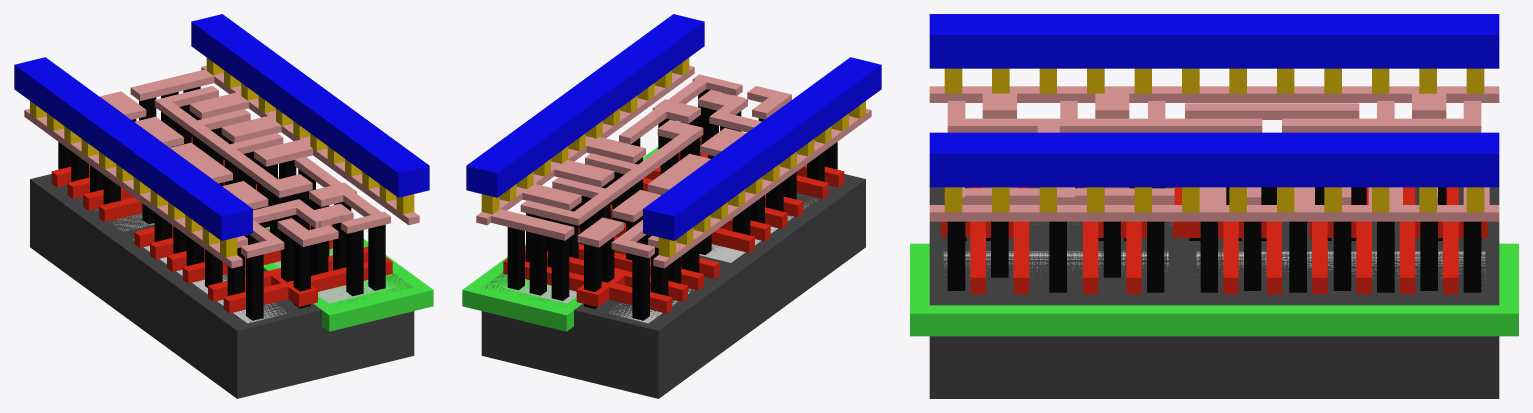
Rendered from sky130_fd_sc_hd__a311oi_2.obj.
The picture shows the model from 3 angles, left to right: view 1: azimuth 30°, elevation 25°; view 2: azimuth 150°, elevation 25°; view 3: azimuth 270°, elevation 25°; orthographic projection. The views are drawn at different scales.
Visible parts, largest first — view 1: subs, metal1, li, licon, poly, mcon, nwell, diff, tap; view 2: subs, metal1, li, licon, poly, mcon, nwell, diff, tap; view 3: metal1, subs, li, nwell, licon, poly, mcon, tap.
Boxes of the visible parts, box(x1,y1,x2,y2) form: subs: box(30, 174, 414, 398); metal1: box(14, 14, 429, 240); li: box(24, 65, 419, 268); licon: box(58, 86, 385, 320); poly: box(51, 137, 392, 313); mcon: box(30, 58, 414, 257); nwell: box(263, 176, 433, 331); diff: box(66, 188, 286, 323); tap: box(265, 227, 392, 303); subs: box(481, 174, 865, 398); metal1: box(466, 14, 881, 240); li: box(476, 65, 871, 268); licon: box(507, 89, 837, 320); poly: box(503, 136, 844, 313); mcon: box(481, 58, 865, 257); nwell: box(462, 147, 658, 331); diff: box(610, 195, 817, 323); tap: box(503, 279, 576, 303); metal1: box(929, 14, 1499, 187); subs: box(929, 187, 1499, 398); li: box(929, 86, 1499, 221); nwell: box(910, 243, 1518, 336); licon: box(947, 187, 1481, 292); poly: box(941, 187, 1487, 294); mcon: box(944, 68, 1484, 212); tap: box(943, 251, 1485, 282).
Size of the model in its own units: 3.2 by 2.74 by 5.9.
